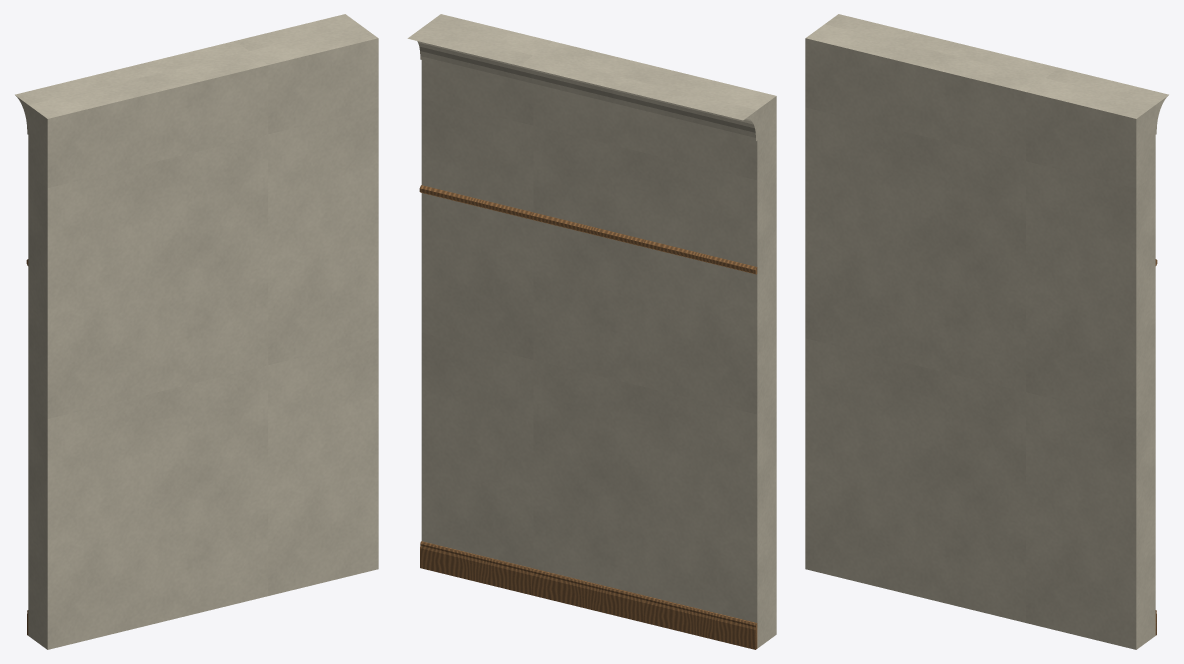
The model's file is X14_ARCH_Wall_Plain_300.glb.
3 views of the same model, side by side, from view 1: azimuth 30°, elevation 25°; view 2: azimuth 150°, elevation 25°; view 3: azimuth 330°, elevation 25° (orthographic).
Parts seen in each view (by area): view 1: X14_ARCH_Wall_Plain_300_LOD0; view 2: X14_ARCH_Wall_Plain_300_LOD0; view 3: X14_ARCH_Wall_Plain_300_LOD0.
Boxes of the visible parts, bbox=[...] form: X14_ARCH_Wall_Plain_300_LOD0: bbox=[15, 14, 378, 649]; X14_ARCH_Wall_Plain_300_LOD0: bbox=[407, 14, 776, 649]; X14_ARCH_Wall_Plain_300_LOD0: bbox=[805, 14, 1168, 649].
Size of what is drawn, in the model's own units: 3 by 4.6 by 0.52.
Materials: 2 (2 with a texture image).
